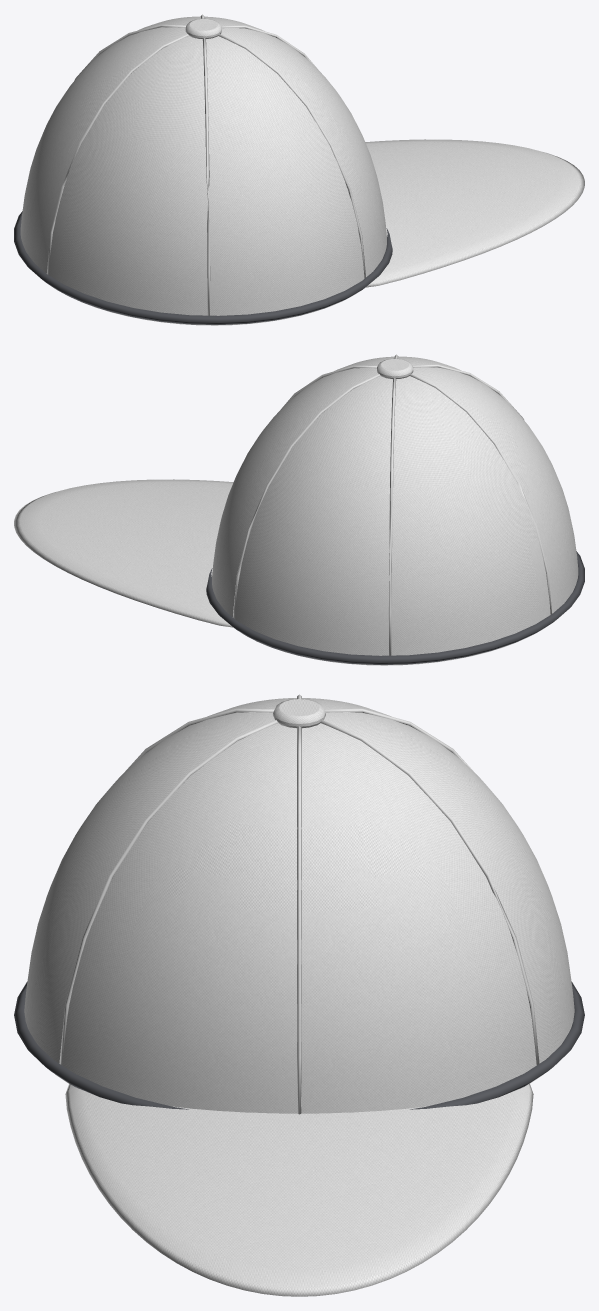
File: cap.glb
The picture shows the model from 3 angles, top to bottom: view 1: azimuth 30°, elevation 25°; view 2: azimuth 150°, elevation 25°; view 3: azimuth 270°, elevation 25°; orthographic projection. The views are drawn at different scales.
Visible parts, largest first — view 1: cap_crown, cap_brim, cap_band, cap_seam4, cap_seam5, cap_seam3, cap_button; view 2: cap_crown, cap_brim, cap_band, cap_seam2, cap_seam1, cap_seam3, cap_button; view 3: cap_crown, cap_brim, cap_band, cap_seam0, cap_seam5, cap_seam1, cap_button.
Part boxes in pixels (x1=…): cap_crown: x1=20, y1=16, x2=386, y2=325; cap_brim: x1=365, y1=139, x2=584, y2=287; cap_band: x1=14, y1=211, x2=392, y2=324; cap_seam4: x1=202, y1=37, x2=210, y2=315; cap_seam5: x1=218, y1=34, x2=365, y2=278; cap_seam3: x1=46, y1=34, x2=189, y2=274; cap_button: x1=185, y1=18, x2=221, y2=38; cap_crown: x1=212, y1=356, x2=578, y2=665; cap_brim: x1=14, y1=479, x2=233, y2=627; cap_band: x1=206, y1=551, x2=584, y2=664; cap_seam2: x1=388, y1=377, x2=396, y2=655; cap_seam1: x1=233, y1=374, x2=380, y2=618; cap_seam3: x1=409, y1=374, x2=552, y2=614; cap_button: x1=377, y1=358, x2=413, y2=378; cap_crown: x1=24, y1=698, x2=574, y2=1113; cap_brim: x1=65, y1=1084, x2=533, y2=1296; cap_band: x1=14, y1=982, x2=584, y2=1109; cap_seam0: x1=297, y1=726, x2=301, y2=1114; cap_seam5: x1=59, y1=720, x2=278, y2=1064; cap_seam1: x1=320, y1=720, x2=539, y2=1064; cap_button: x1=273, y1=699, x2=325, y2=728.
Size of the model in its own units: 30.06 by 12.54 by 19.5.
2 materials, 1 textured.
